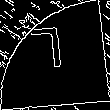L_S: (35, 28, 75, 82)
